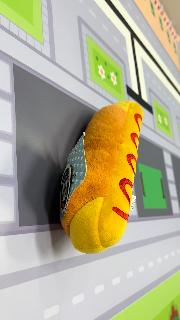hotdog: (58, 100, 144, 254)
